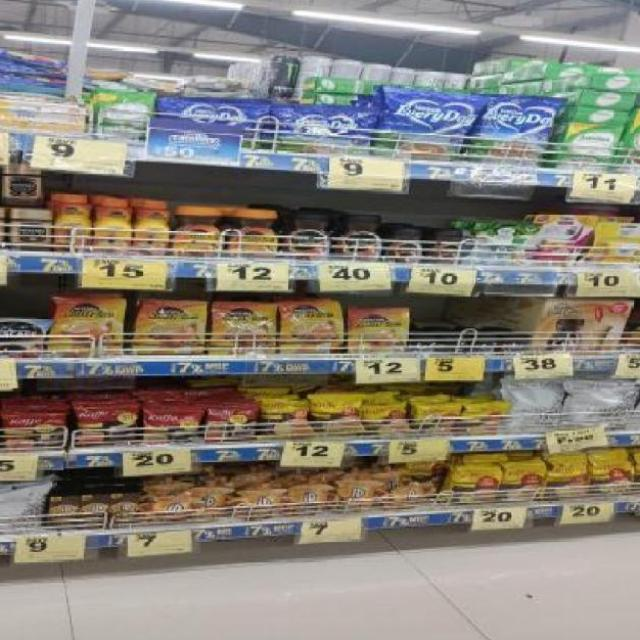Coffee: (52, 300, 122, 355), (138, 300, 203, 355), (213, 301, 272, 354), (281, 303, 341, 355), (174, 205, 223, 258), (349, 309, 407, 353), (228, 209, 278, 260), (284, 212, 330, 260), (336, 215, 381, 263), (54, 193, 90, 252), (95, 197, 132, 254), (0, 318, 48, 358), (138, 198, 170, 255), (3, 164, 42, 208), (8, 210, 48, 252), (388, 228, 422, 263), (428, 229, 461, 263), (412, 338, 437, 353), (442, 338, 468, 352), (504, 339, 530, 353), (472, 338, 497, 351)
